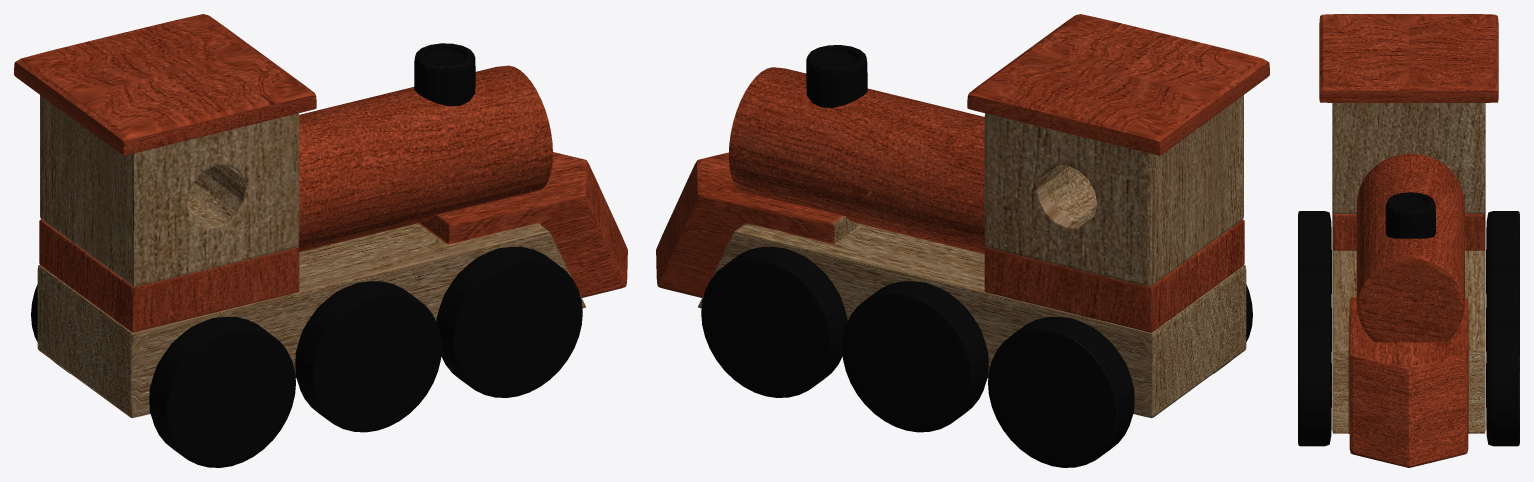
Rendered from train.fbx.
3 renders of one model, left to right at view 1: azimuth 30°, elevation 25°; view 2: azimuth 150°, elevation 25°; view 3: azimuth 270°, elevation 25°, orthographic. The views are drawn at different scales.
Visible parts, largest first — view 1: Cylinder.004, Cube.004, Cube.006, Cylinder.003, Cube.007, Cube.005, Cylinder.005; view 2: Cylinder.004, Cube.004, Cube.006, Cylinder.003, Cube.007, Cube.005, Cylinder.005; view 3: Cube.004, Cylinder.003, Cube.007, Cylinder.004, Cube.006, Cylinder.005, Cube.005.
Part boxes in pixels (x1=…): Cylinder.004: x1=31, y1=247, x2=582, y2=467; Cube.004: x1=37, y1=152, x2=627, y2=417; Cube.006: x1=40, y1=95, x2=299, y2=286; Cylinder.003: x1=298, y1=65, x2=552, y2=251; Cube.007: x1=14, y1=14, x2=316, y2=155; Cube.005: x1=39, y1=219, x2=299, y2=332; Cylinder.005: x1=414, y1=43, x2=475, y2=106; Cylinder.004: x1=701, y1=247, x2=1252, y2=467; Cube.004: x1=656, y1=152, x2=1246, y2=417; Cube.006: x1=984, y1=95, x2=1243, y2=286; Cylinder.003: x1=728, y1=67, x2=985, y2=253; Cube.007: x1=967, y1=14, x2=1269, y2=155; Cube.005: x1=984, y1=219, x2=1244, y2=332; Cylinder.005: x1=806, y1=45, x2=867, y2=107; Cube.004: x1=1332, y1=212, x2=1485, y2=467; Cylinder.003: x1=1356, y1=153, x2=1464, y2=342; Cube.007: x1=1319, y1=14, x2=1498, y2=102; Cylinder.004: x1=1298, y1=211, x2=1519, y2=446; Cube.006: x1=1332, y1=103, x2=1485, y2=213; Cylinder.005: x1=1385, y1=192, x2=1435, y2=238; Cube.005: x1=1333, y1=213, x2=1484, y2=250.
Size of the model in its own units: 516 by 303 by 219.
Materials: 1 (1 with a texture image).
